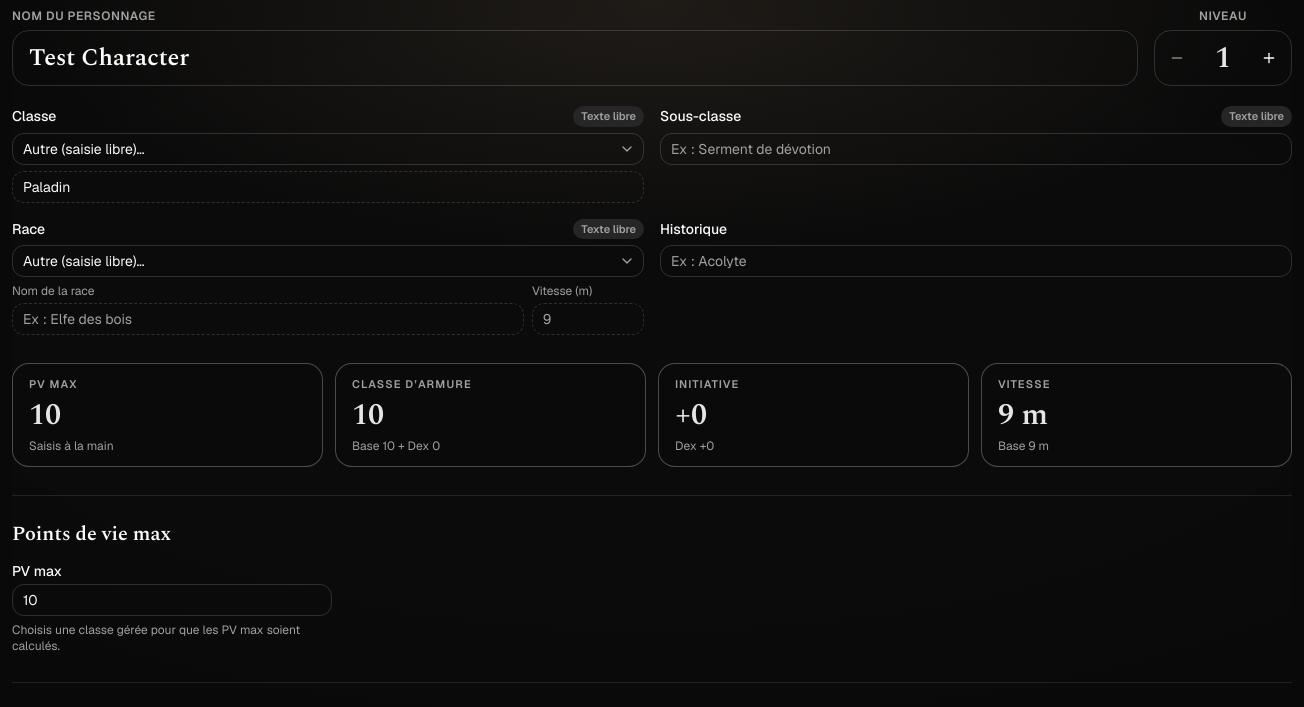
Test: GeneralTab › uses one list per class: a known class sets both the rules id and the label
Expected: the field named "Nom de la classe" holds "Paladin", [12, 170, 644, 202]
Expected: the 1st text "Texte libre" is shown, [573, 106, 644, 126]
Click the dropdown named "Classe".
click(84, 148)  # box [12, 132, 644, 164]
(page scrolled)
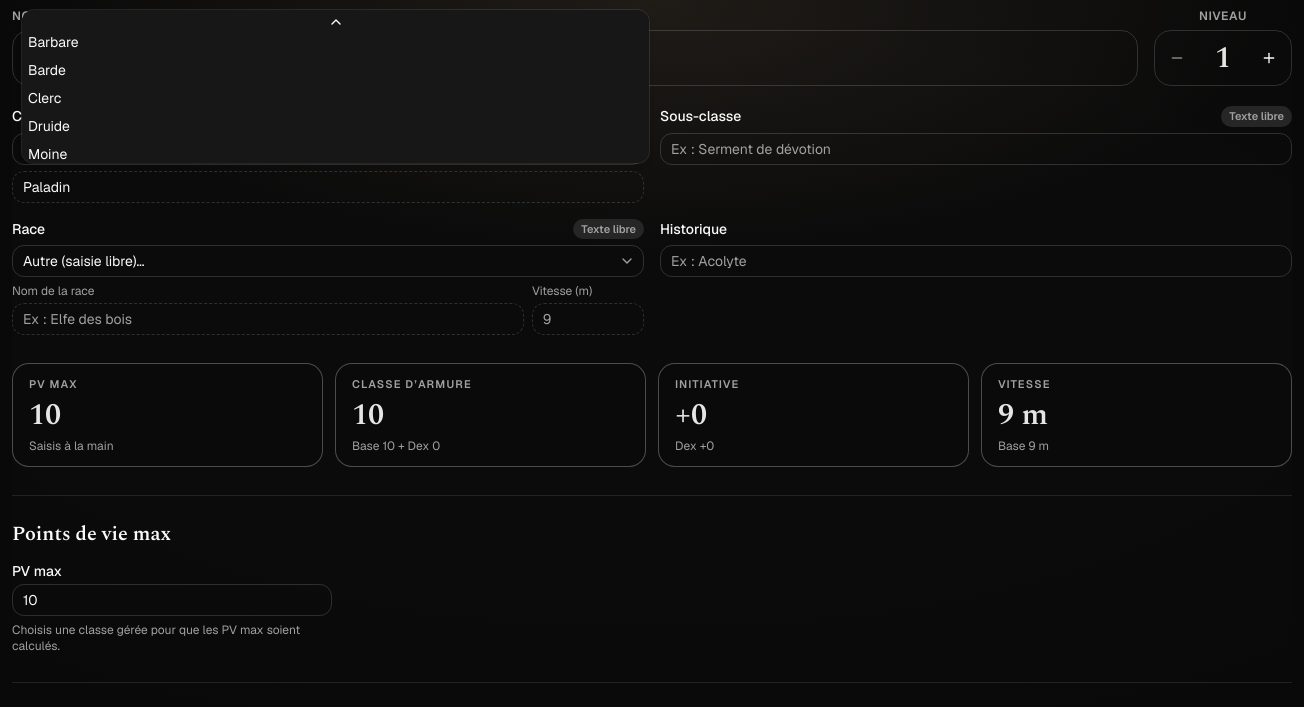
Click the option "Clerc".
click(45, 98)  # box [28, 89, 62, 107]
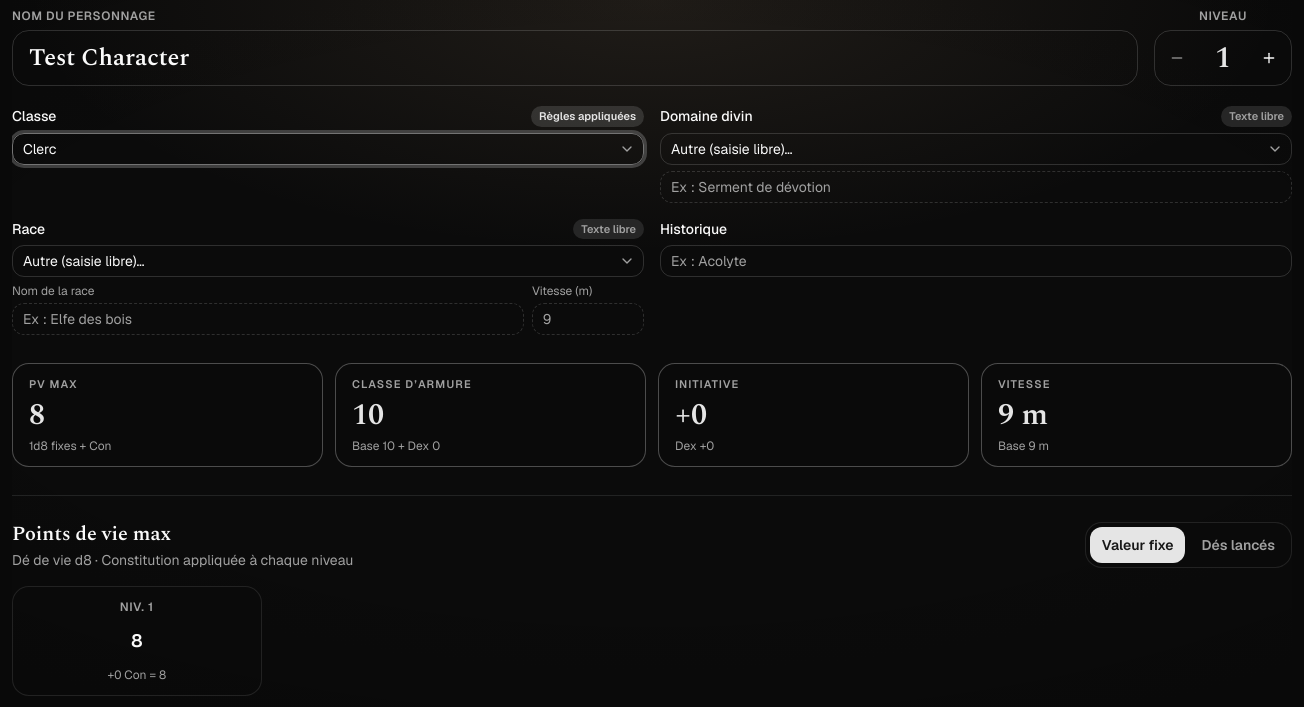
Expected: the dropdown named "Domaine divin" is shown, [660, 132, 1292, 164]
Now the text "Clerc" is shown, box [23, 138, 56, 158]
Click the dropdown named "Classe".
click(40, 148)  # box [12, 132, 644, 164]
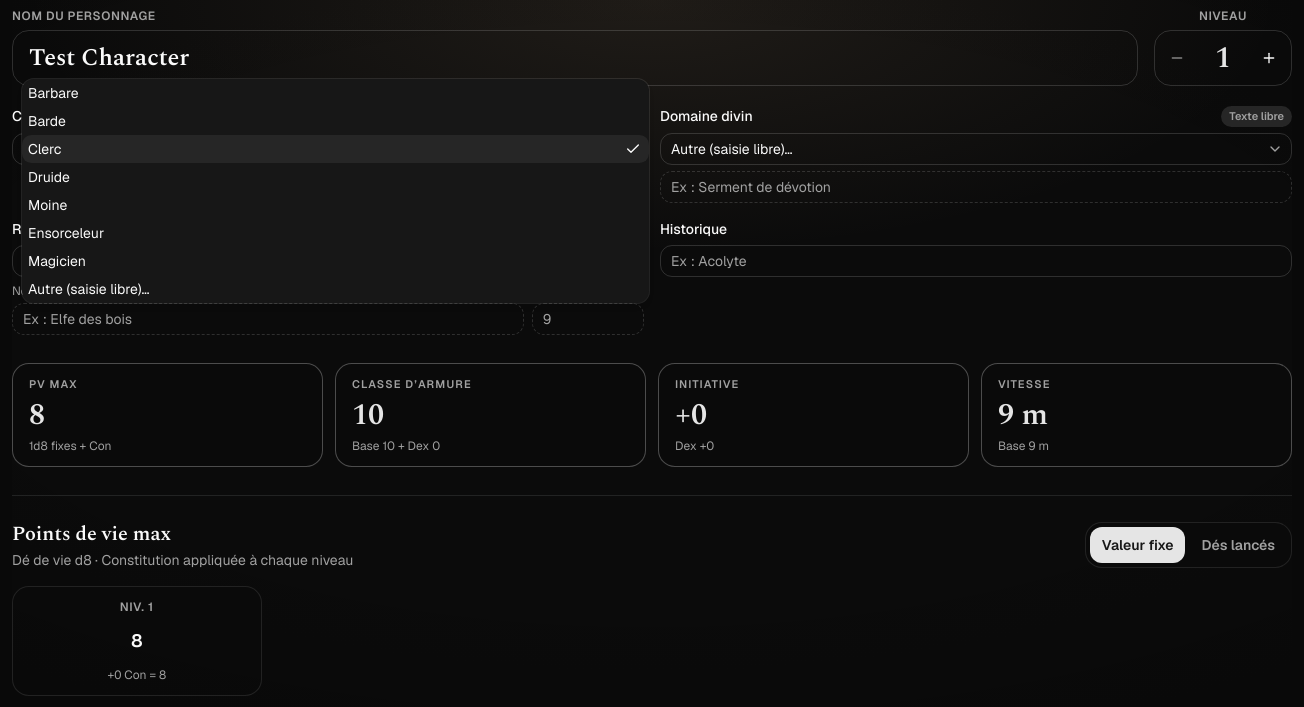
Click the option "Autre (saisie libre)…".
click(89, 288)  # box [28, 280, 150, 298]
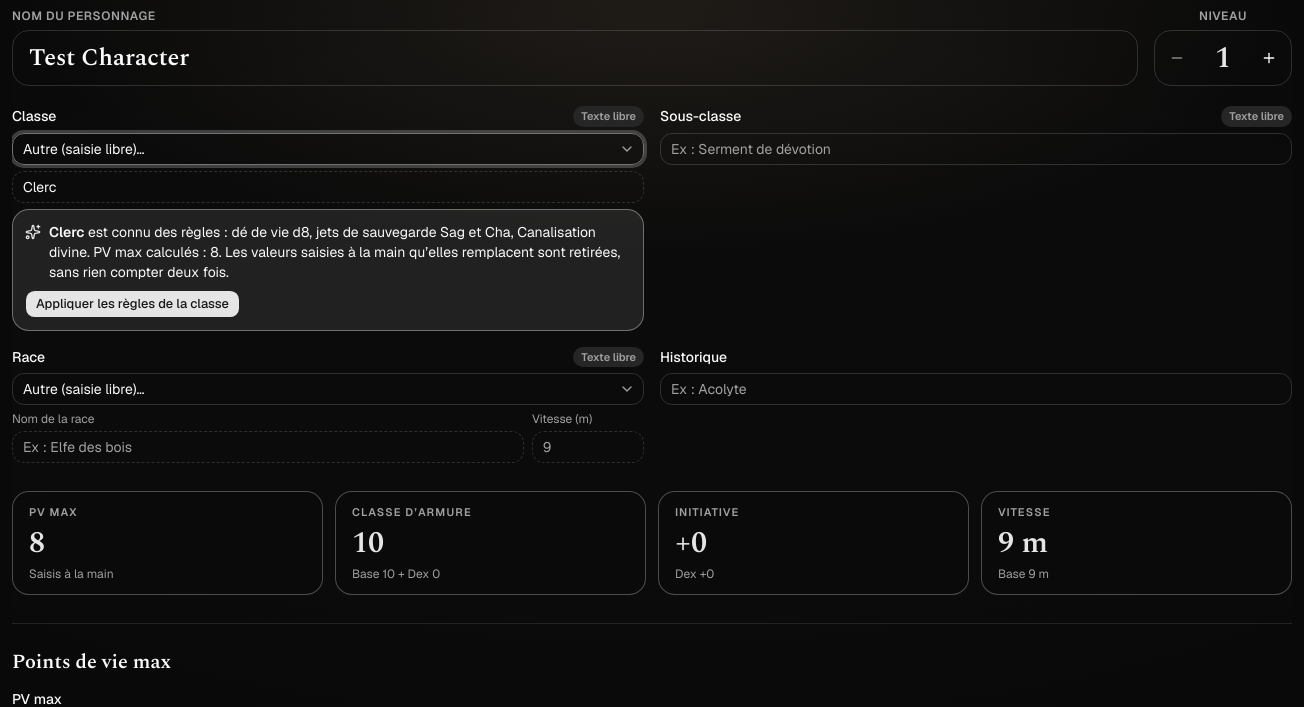
Now the field named "Nom de la classe" holds "Clerc", box [12, 170, 644, 202]
